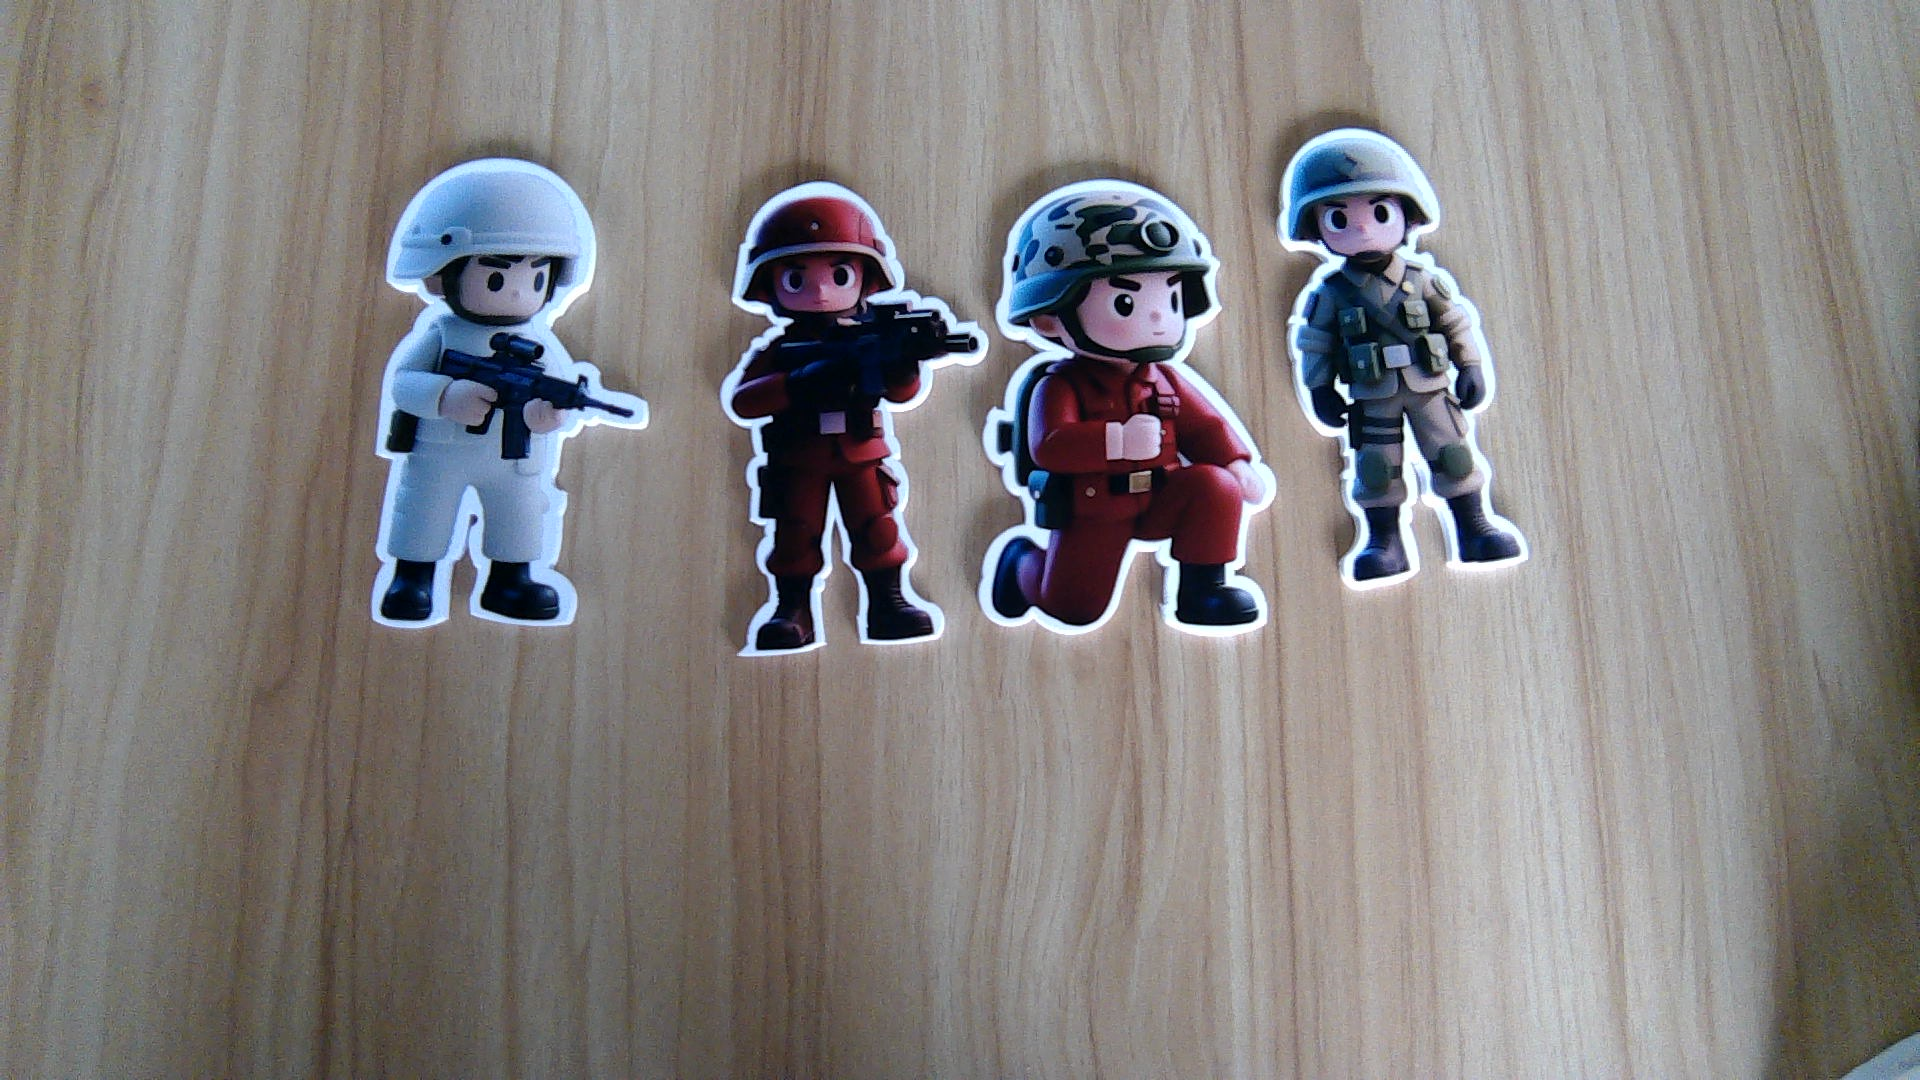人质: (356, 330, 650, 633)
友军: (1283, 252, 1538, 588)
敌人1: (716, 313, 975, 666), (982, 351, 1280, 647)
